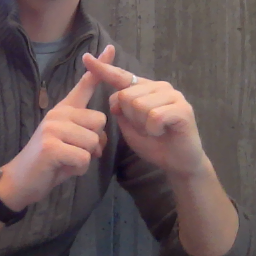X: (30, 42, 197, 177)
